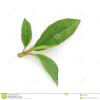Peach leaf: (33, 17, 84, 50), (30, 53, 58, 87), (20, 17, 33, 49)
